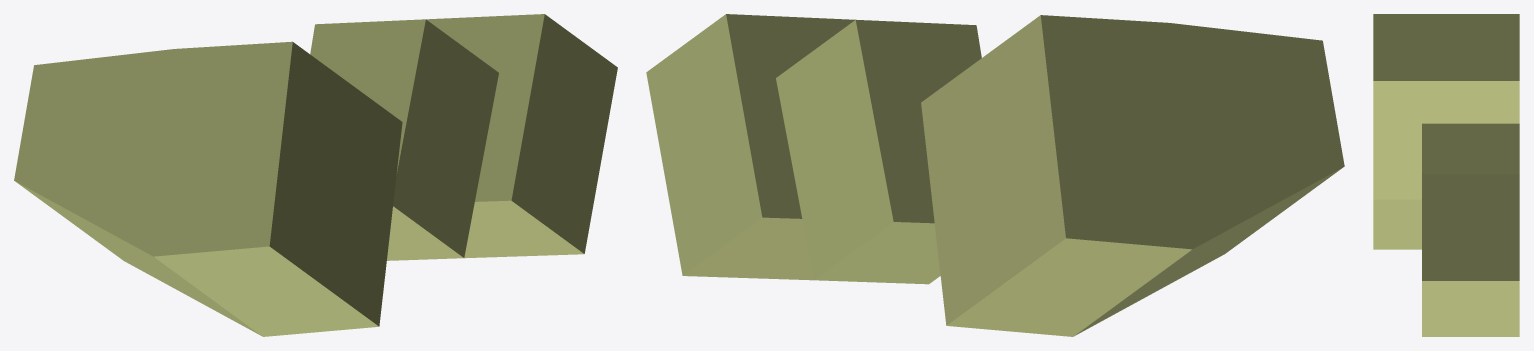
The picture shows the model from 3 angles, left to right: view 1: azimuth 30°, elevation 25°; view 2: azimuth 150°, elevation 25°; view 3: azimuth 270°, elevation 25°; orthographic projection. The views are drawn at different scales.
Parts seen in each view (by area): view 1: 0_0_1_2_0_0_0_2_2_1; view 2: 0_0_1_2_0_0_0_2_2_1; view 3: 0_0_1_2_0_0_0_2_2_1.
Boxes of the visible parts, x1,y1,x2,y2 form: 0_0_1_2_0_0_0_2_2_1: (14,14,617,336); 0_0_1_2_0_0_0_2_2_1: (646,14,1344,336); 0_0_1_2_0_0_0_2_2_1: (1373,14,1519,336).
Size of the model in its own units: 25.13 by 11.4 by 9.
